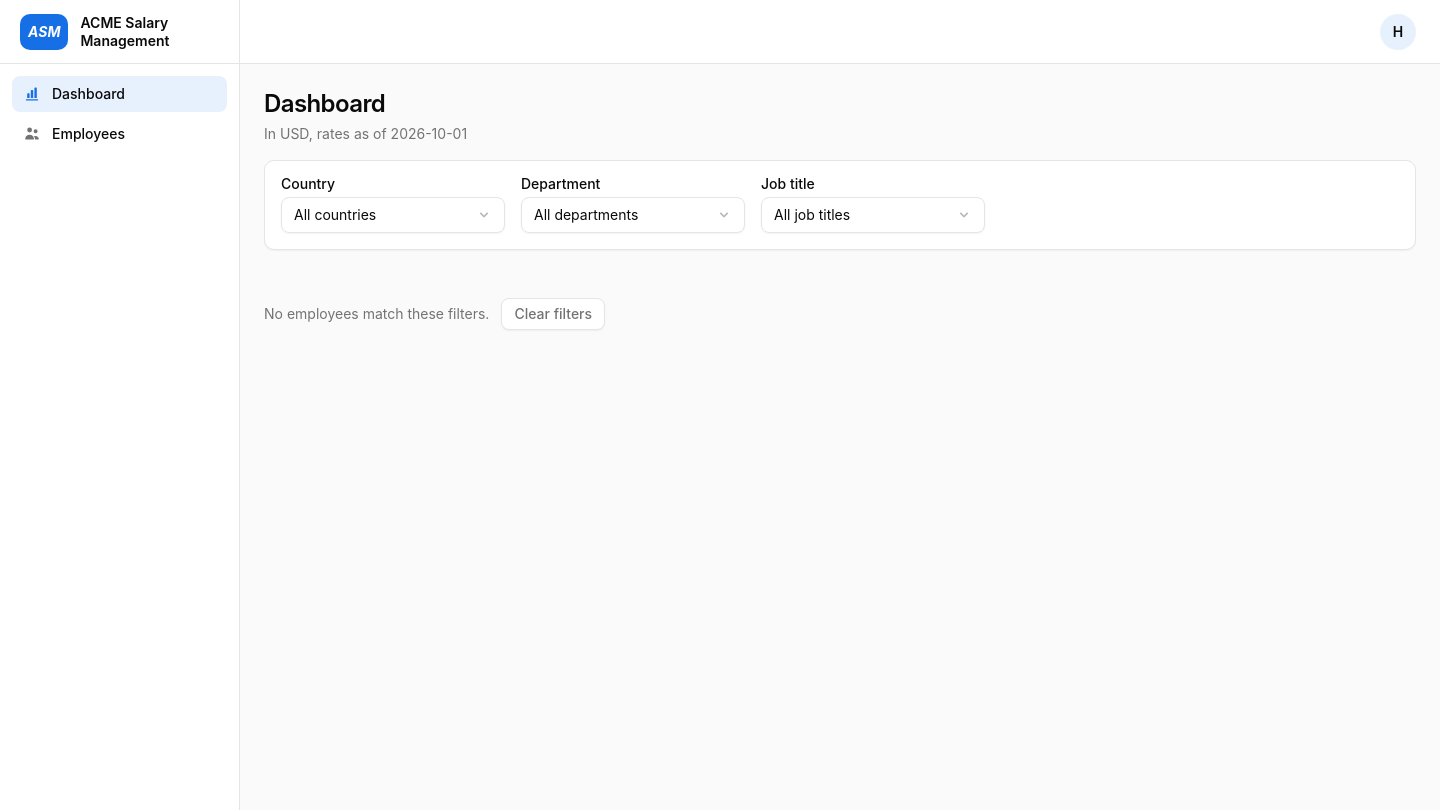
Test: App › shows the employee list when Employees is chosen in the navigation
Click the link "Employees": [74, 134] box 24,125 -> 125,142
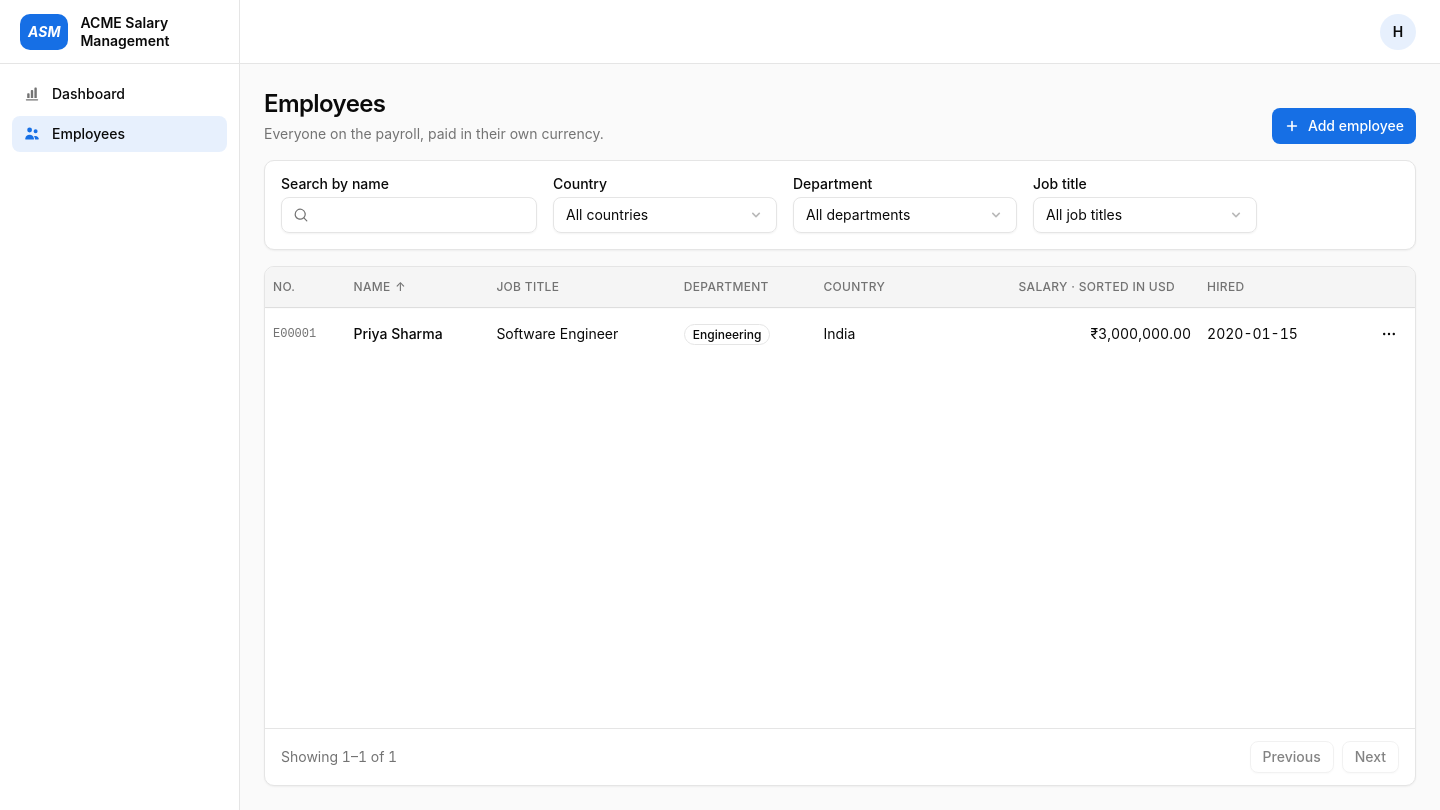
expect the table is shown: met, box 265,267 -> 1415,360
